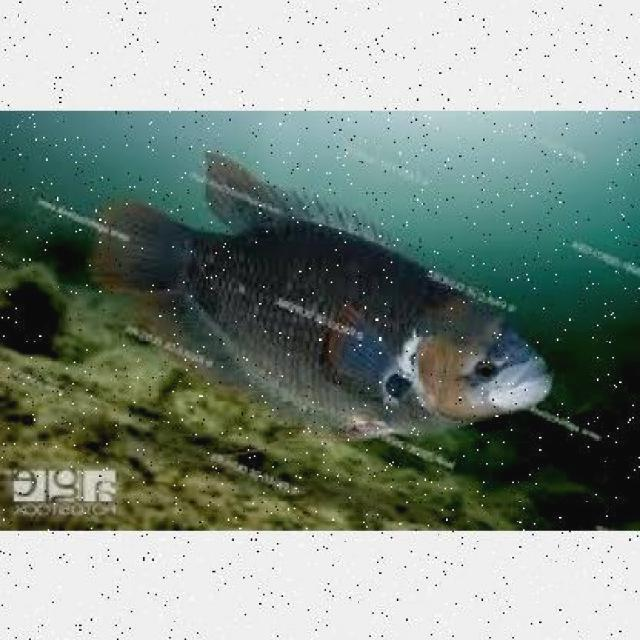gurame: (90, 188, 559, 440)
